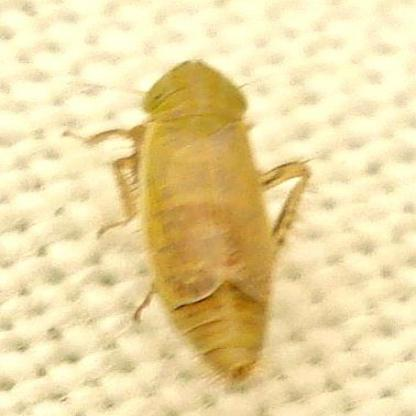green-leafhopper: (108, 60, 303, 378)
